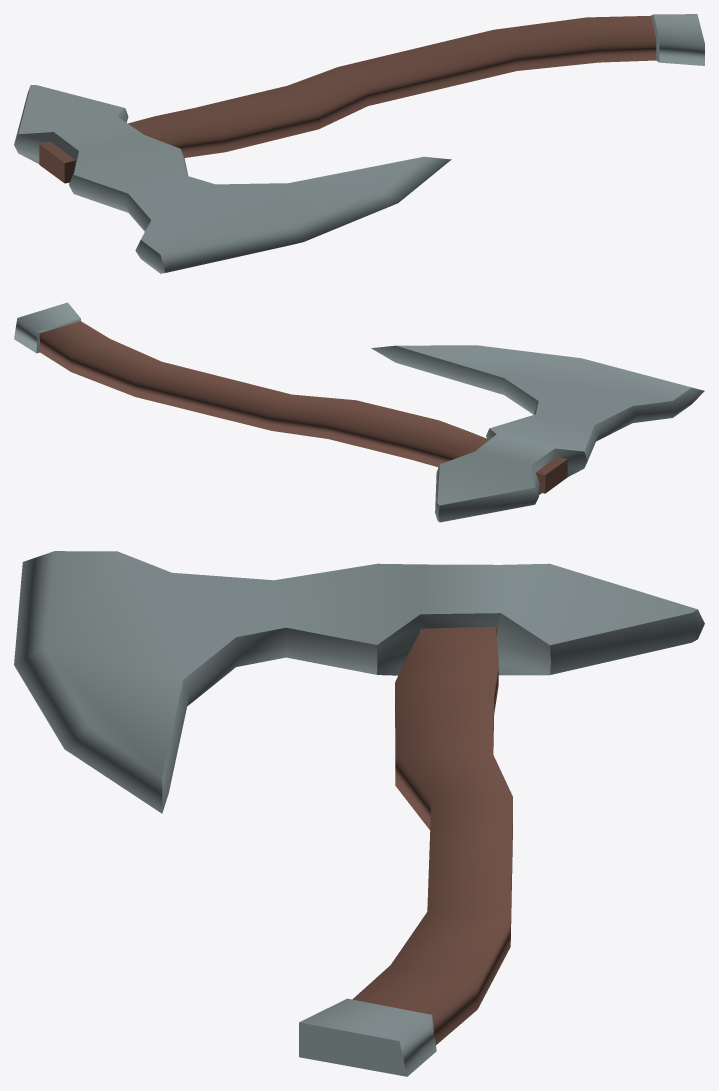
File: Hacha (2).FBX
The picture shows the model from 3 angles, top to bottom: view 1: azimuth 30°, elevation 25°; view 2: azimuth 150°, elevation 25°; view 3: azimuth 270°, elevation 25°; orthographic projection. The views are drawn at different scales.
Visible parts, largest first — view 1: Hacha; view 2: Hacha; view 3: Hacha.
Part boxes in pixels (x1=…): Hacha: x1=14, y1=14, x2=704, y2=273; Hacha: x1=14, y1=302, x2=704, y2=522; Hacha: x1=14, y1=551, x2=704, y2=1076.
Size of the model in its own units: 153 by 8.91 by 89.92.
